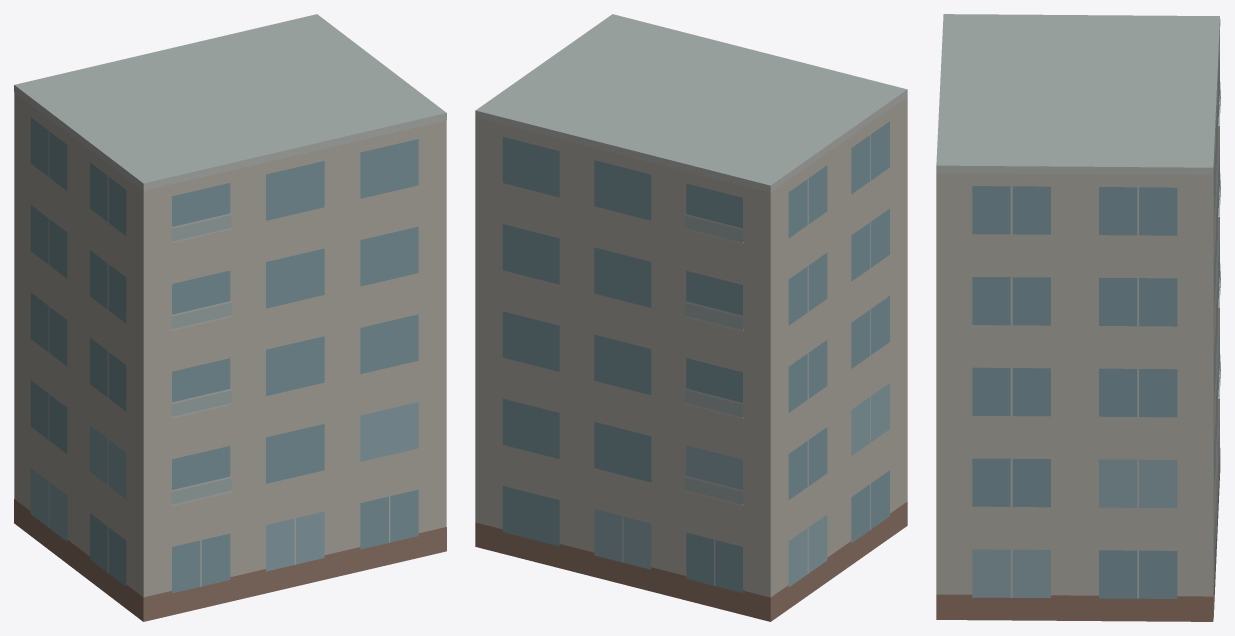
The model's file is survey-upis-32950724.glb.
The picture shows the model from 3 angles, left to right: view 1: azimuth 30°, elevation 25°; view 2: azimuth 150°, elevation 25°; view 3: azimuth 270°, elevation 25°; orthographic projection. The views are drawn at different scales.
Parts seen in each view (by area): view 1: survey-upis-32950724.tmp; view 2: survey-upis-32950724.tmp; view 3: survey-upis-32950724.tmp.
Boxes of the visible parts, bbox=[...] form: survey-upis-32950724.tmp: bbox=[14, 14, 446, 621]; survey-upis-32950724.tmp: bbox=[475, 14, 907, 621]; survey-upis-32950724.tmp: bbox=[936, 14, 1220, 621].
Bounding box in the file's own units: 10.53 × 14.5 × 8.24.
